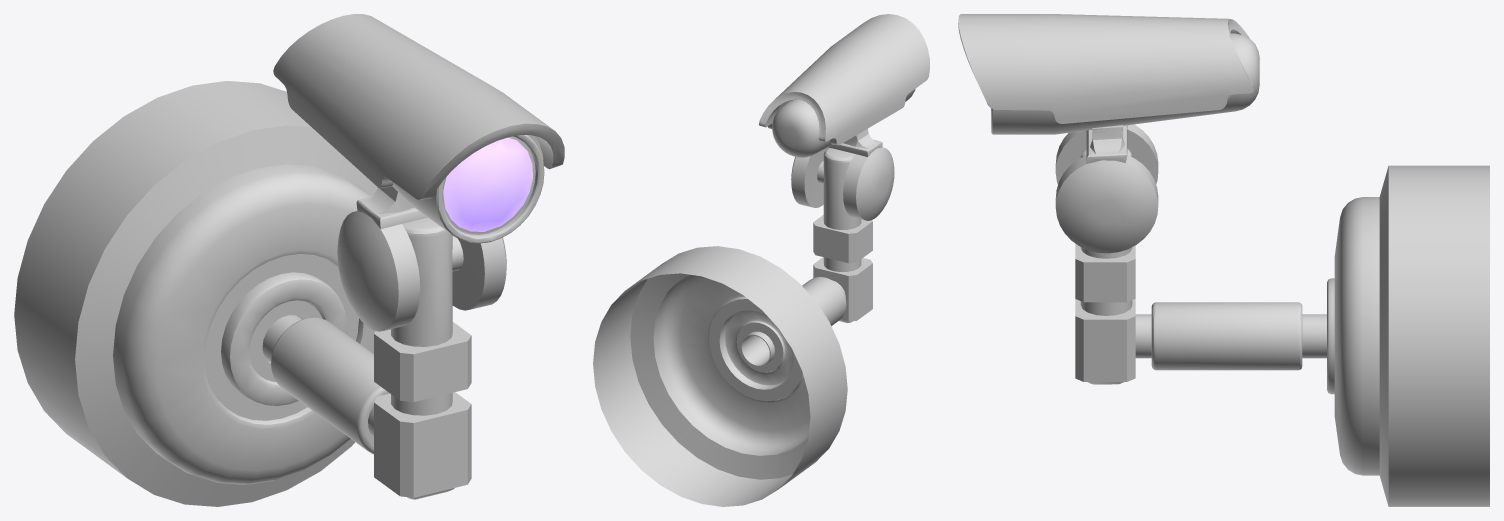
The model's file is camera.fbx.
The picture shows the model from 3 angles, left to right: view 1: azimuth 30°, elevation 25°; view 2: azimuth 150°, elevation 25°; view 3: azimuth 270°, elevation 25°; orthographic projection. The views are drawn at different scales.
Parts seen in each view (by area): view 1: Cylinder, Cylinder.002, Cylinder.001; view 2: Cylinder, Cylinder.002, Cylinder.001; view 3: Cylinder, Cylinder.002, Cylinder.001.
Boxes of the visible parts, x1,y1,x2,y2 form: Cylinder: (14,81,471,506); Cylinder.002: (273,14,564,331); Cylinder.001: (374,217,471,415); Cylinder: (593,246,872,506); Cylinder.002: (759,14,929,220); Cylinder.001: (813,147,872,271); Cylinder: (1075,165,1489,506); Cylinder.002: (958,14,1259,253); Cylinder.001: (1075,148,1135,315).
Bounding box in the file's own units: 0.4093 × 0.6222 × 0.637.
